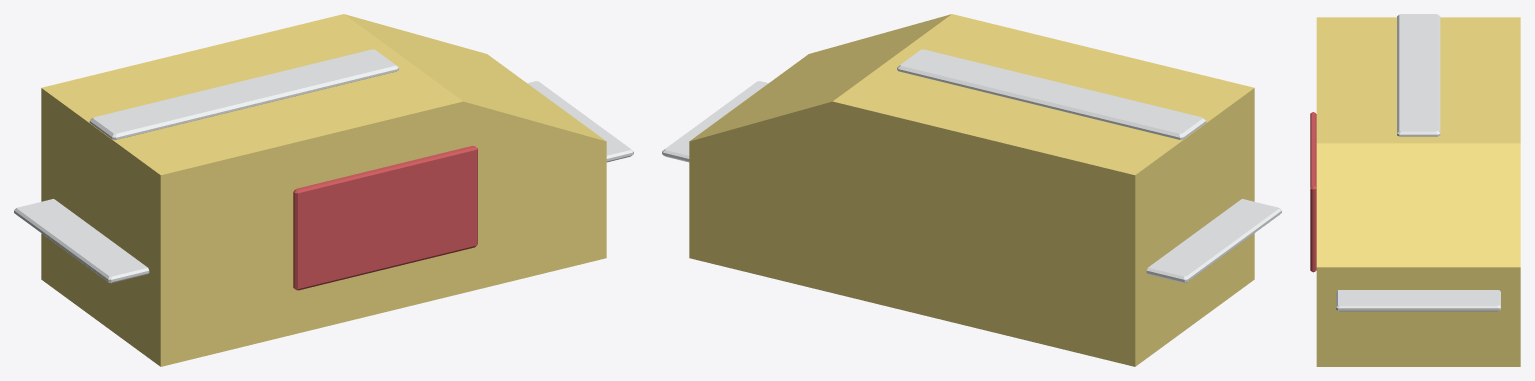
File: fresh-produce-and-groceries-cheese-block-ea58d24d__24396.glb
3 views of the same model, side by side, from view 1: azimuth 30°, elevation 25°; view 2: azimuth 150°, elevation 25°; view 3: azimuth 270°, elevation 25° (orthographic). The views are drawn at different scales.
Visible parts, largest first — view 1: cheese-block; view 2: cheese-block; view 3: cheese-block.
Boxes of the visible parts, <box> form: cheese-block: <box>14,14,633,366</box>; cheese-block: <box>662,14,1281,366</box>; cheese-block: <box>1310,14,1520,366</box>.
Size of the model in its own units: 0.132 by 0.0472 by 0.0536.
